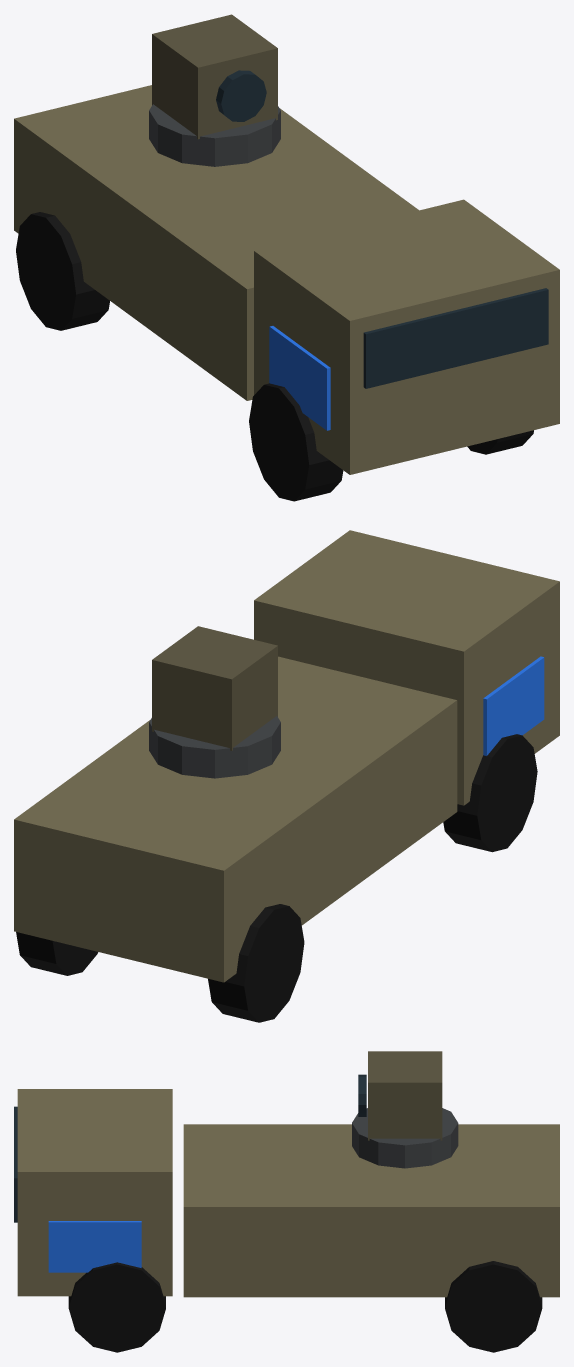
File: us_laser_cuas.glb
3 views of the same model, one above another, from view 1: azimuth 30°, elevation 25°; view 2: azimuth 150°, elevation 25°; view 3: azimuth 270°, elevation 25° (orthographic). The views are drawn at different scales.
Parts seen in each view (by area): view 1: body, cab, windshield, barrel, wheel_l1, wheel_l0, turret, team_door_l, laser_lens, wheel_r0; view 2: body, cab, barrel, wheel_l1, wheel_l0, turret, team_door_l, wheel_r1; view 3: body, cab, wheel_r1, wheel_r0, barrel, team_door_r, turret, windshield, laser_lens.
Part boxes in pixels (x1,y1,x2,y2): body: [14, 85, 418, 400]; cab: [254, 199, 559, 474]; windshield: [363, 288, 548, 388]; barrel: [152, 14, 277, 139]; wheel_l1: [16, 212, 109, 330]; wheel_l0: [249, 383, 343, 501]; turret: [149, 104, 280, 166]; team_door_l: [269, 326, 330, 430]; laser_lens: [216, 70, 266, 121]; wheel_r0: [467, 430, 533, 454]; body: [14, 656, 457, 982]; cab: [254, 530, 559, 805]; barrel: [152, 626, 277, 750]; wheel_l1: [208, 904, 304, 1022]; wheel_l0: [443, 734, 537, 852]; turret: [149, 716, 280, 778]; team_door_l: [483, 656, 544, 755]; wheel_r1: [16, 932, 98, 975]; body: [183, 1124, 559, 1297]; cab: [17, 1089, 172, 1296]; wheel_r1: [445, 1261, 542, 1352]; wheel_r0: [68, 1262, 165, 1352]; barrel: [368, 1051, 442, 1140]; team_door_r: [48, 1221, 141, 1272]; turret: [352, 1108, 458, 1168]; windshield: [14, 1106, 17, 1222]; laser_lens: [358, 1074, 366, 1116].
Bounding box in the file's own units: 2.5 × 3.12 × 6.42.
